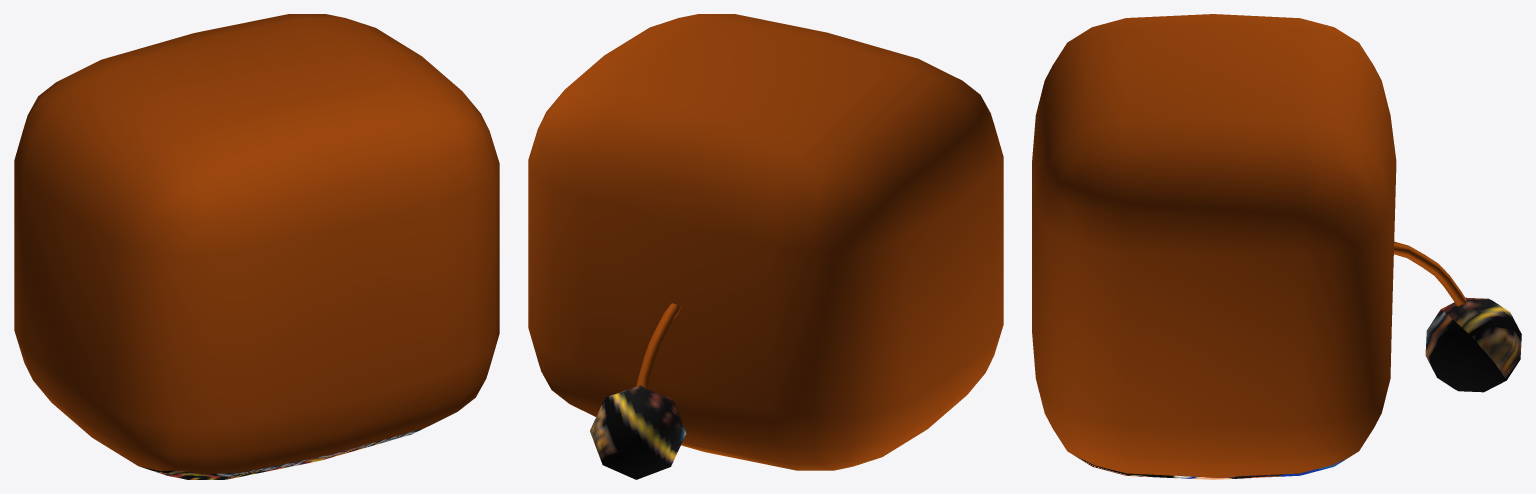
Rendered from icon02.ico.obj.
The picture shows the model from 3 angles, left to right: view 1: azimuth 30°, elevation 25°; view 2: azimuth 150°, elevation 25°; view 3: azimuth 270°, elevation 25°; orthographic projection. The views are drawn at different scales.
Size of the model in its own units: 3.85 by 3.43 by 4.22.
